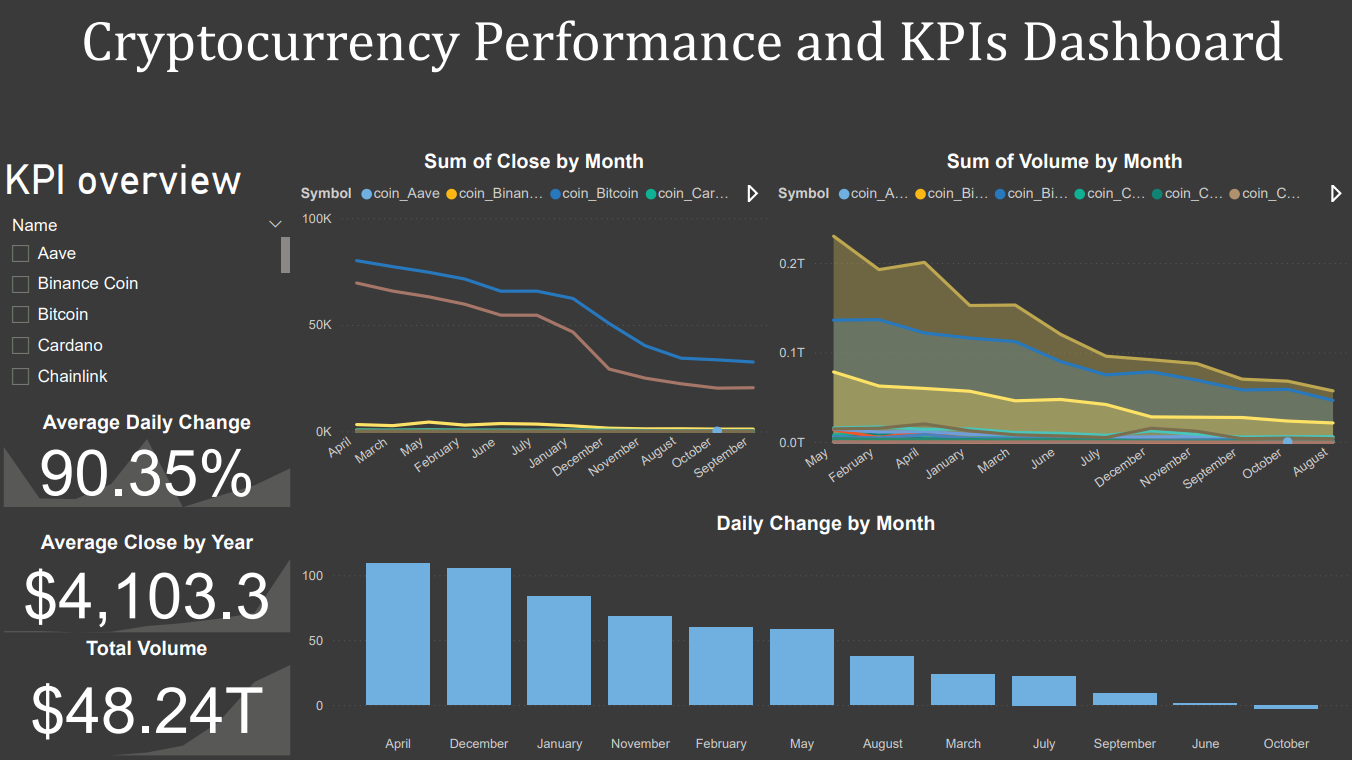

This screenshot's page, from the dashboard's own definition file:
{"tool":"powerbi","page":{"name":"Page 1","canvas":[1280,720],"ordinal":0},"visuals":[{"type":"textbox","box":[9.6,0,279.9,102.9],"z":0},{"type":"textbox","box":[9.6,0,279.9,52.1],"z":1000},{"type":"textbox","box":[0,145.5,279.9,65.9],"z":2000},{"type":"kpi","fields":{"Indicator":["combined_crypto_data.Average Close"],"TrendLine":["combined_crypto_data.Year"]},"box":[0,503.6,279.9,100.2],"z":3000},{"type":"kpi","title":"Average Daily Change","fields":{"TrendLine":["combined_crypto_data.Year"],"Indicator":["combined_crypto_data.Average Daily Change %"]},"box":[0,391.1,279.9,94.7],"z":4000},{"type":"kpi","title":"Total Volume","fields":{"TrendLine":["combined_crypto_data.Year"],"Indicator":["combined_crypto_data.Total Volume"]},"box":[0,603.8,279.9,116.6],"z":5000},{"type":"lineChart","title":"Sum of Close by Month","fields":{"Category":["monthly_avg_crypto.Month"],"Y":["Sum(monthly_avg_crypto.Close)"],"Series":["monthly_avg_crypto.Symbol"]},"box":[279.9,145.5,450.1,330.7],"z":5001},{"type":"areaChart","title":"Sum of Volume by Month","fields":{"Category":["monthly_avg_crypto.Month"],"Y":["Sum(monthly_avg_crypto.Volume)"],"Series":["monthly_avg_crypto.Symbol"]},"box":[730,145.5,550.3,340.3],"z":5002},{"type":"clusteredColumnChart","title":" Daily Change by Month","fields":{"Category":["monthly_avg_crypto.Month"],"Y":["Sum(monthly_avg_crypto.Daily Change %)"]},"box":[279.9,485.8,1000.3,234.6],"z":5003},{"type":"textbox","box":[9.6,9.6,1270.7,107],"z":5004},{"type":"slicer","fields":{"Values":["combined_crypto_data.Name"]},"box":[0,201.7,279.9,179.8],"z":5005}]}

Visuals, with their boxes in screenshot pixels (x1, y1, x2, y2), scaled from the page's 1280x720 canvas onto the 1352x760 screenshot:
textbox: left=10, top=0, right=306, bottom=109
textbox: left=10, top=0, right=306, bottom=55
textbox: left=0, top=154, right=296, bottom=223
kpi - combined_crypto_data.Average Close x combined_crypto_data.Year: left=0, top=532, right=296, bottom=637
"Average Daily Change" kpi: left=0, top=413, right=296, bottom=513
"Total Volume" kpi: left=0, top=637, right=296, bottom=759
"Sum of Close by Month" lineChart: left=296, top=154, right=771, bottom=503
"Sum of Volume by Month" areaChart: left=771, top=154, right=1351, bottom=513
" Daily Change by Month" clusteredColumnChart: left=296, top=513, right=1351, bottom=759
textbox: left=10, top=10, right=1351, bottom=123
slicer - combined_crypto_data.Name: left=0, top=213, right=296, bottom=403
